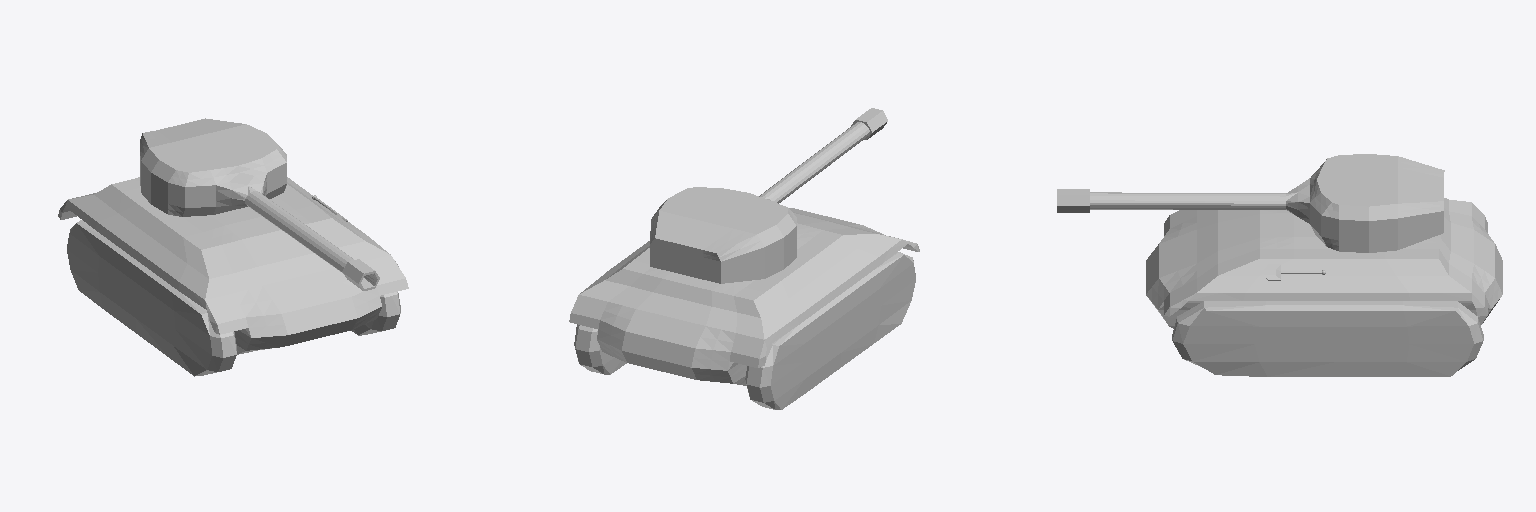
The model's file is tank.obj.
3 renders of one model, left to right at view 1: azimuth 30°, elevation 25°; view 2: azimuth 150°, elevation 25°; view 3: azimuth 270°, elevation 25°, orthographic.
Visible parts, largest first — view 1: lopatka_Cube.004; view 2: lopatka_Cube.004; view 3: lopatka_Cube.004.
Boxes of the visible parts, x1=… form: lopatka_Cube.004: x1=58, y1=118, x2=408, y2=376; lopatka_Cube.004: x1=569, y1=108, x2=919, y2=409; lopatka_Cube.004: x1=1057, y1=154, x2=1502, y2=376.
Bounding box in the file's own units: 3.43 × 2.57 × 6.8.